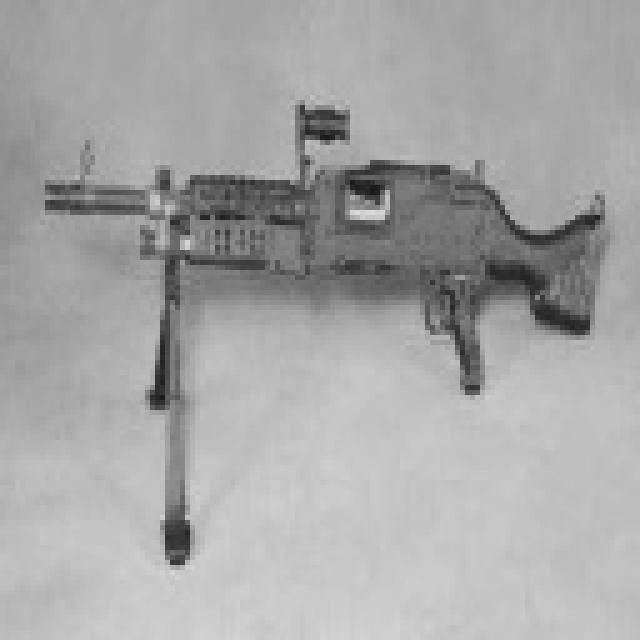Rifle: (0, 0, 624, 581)
